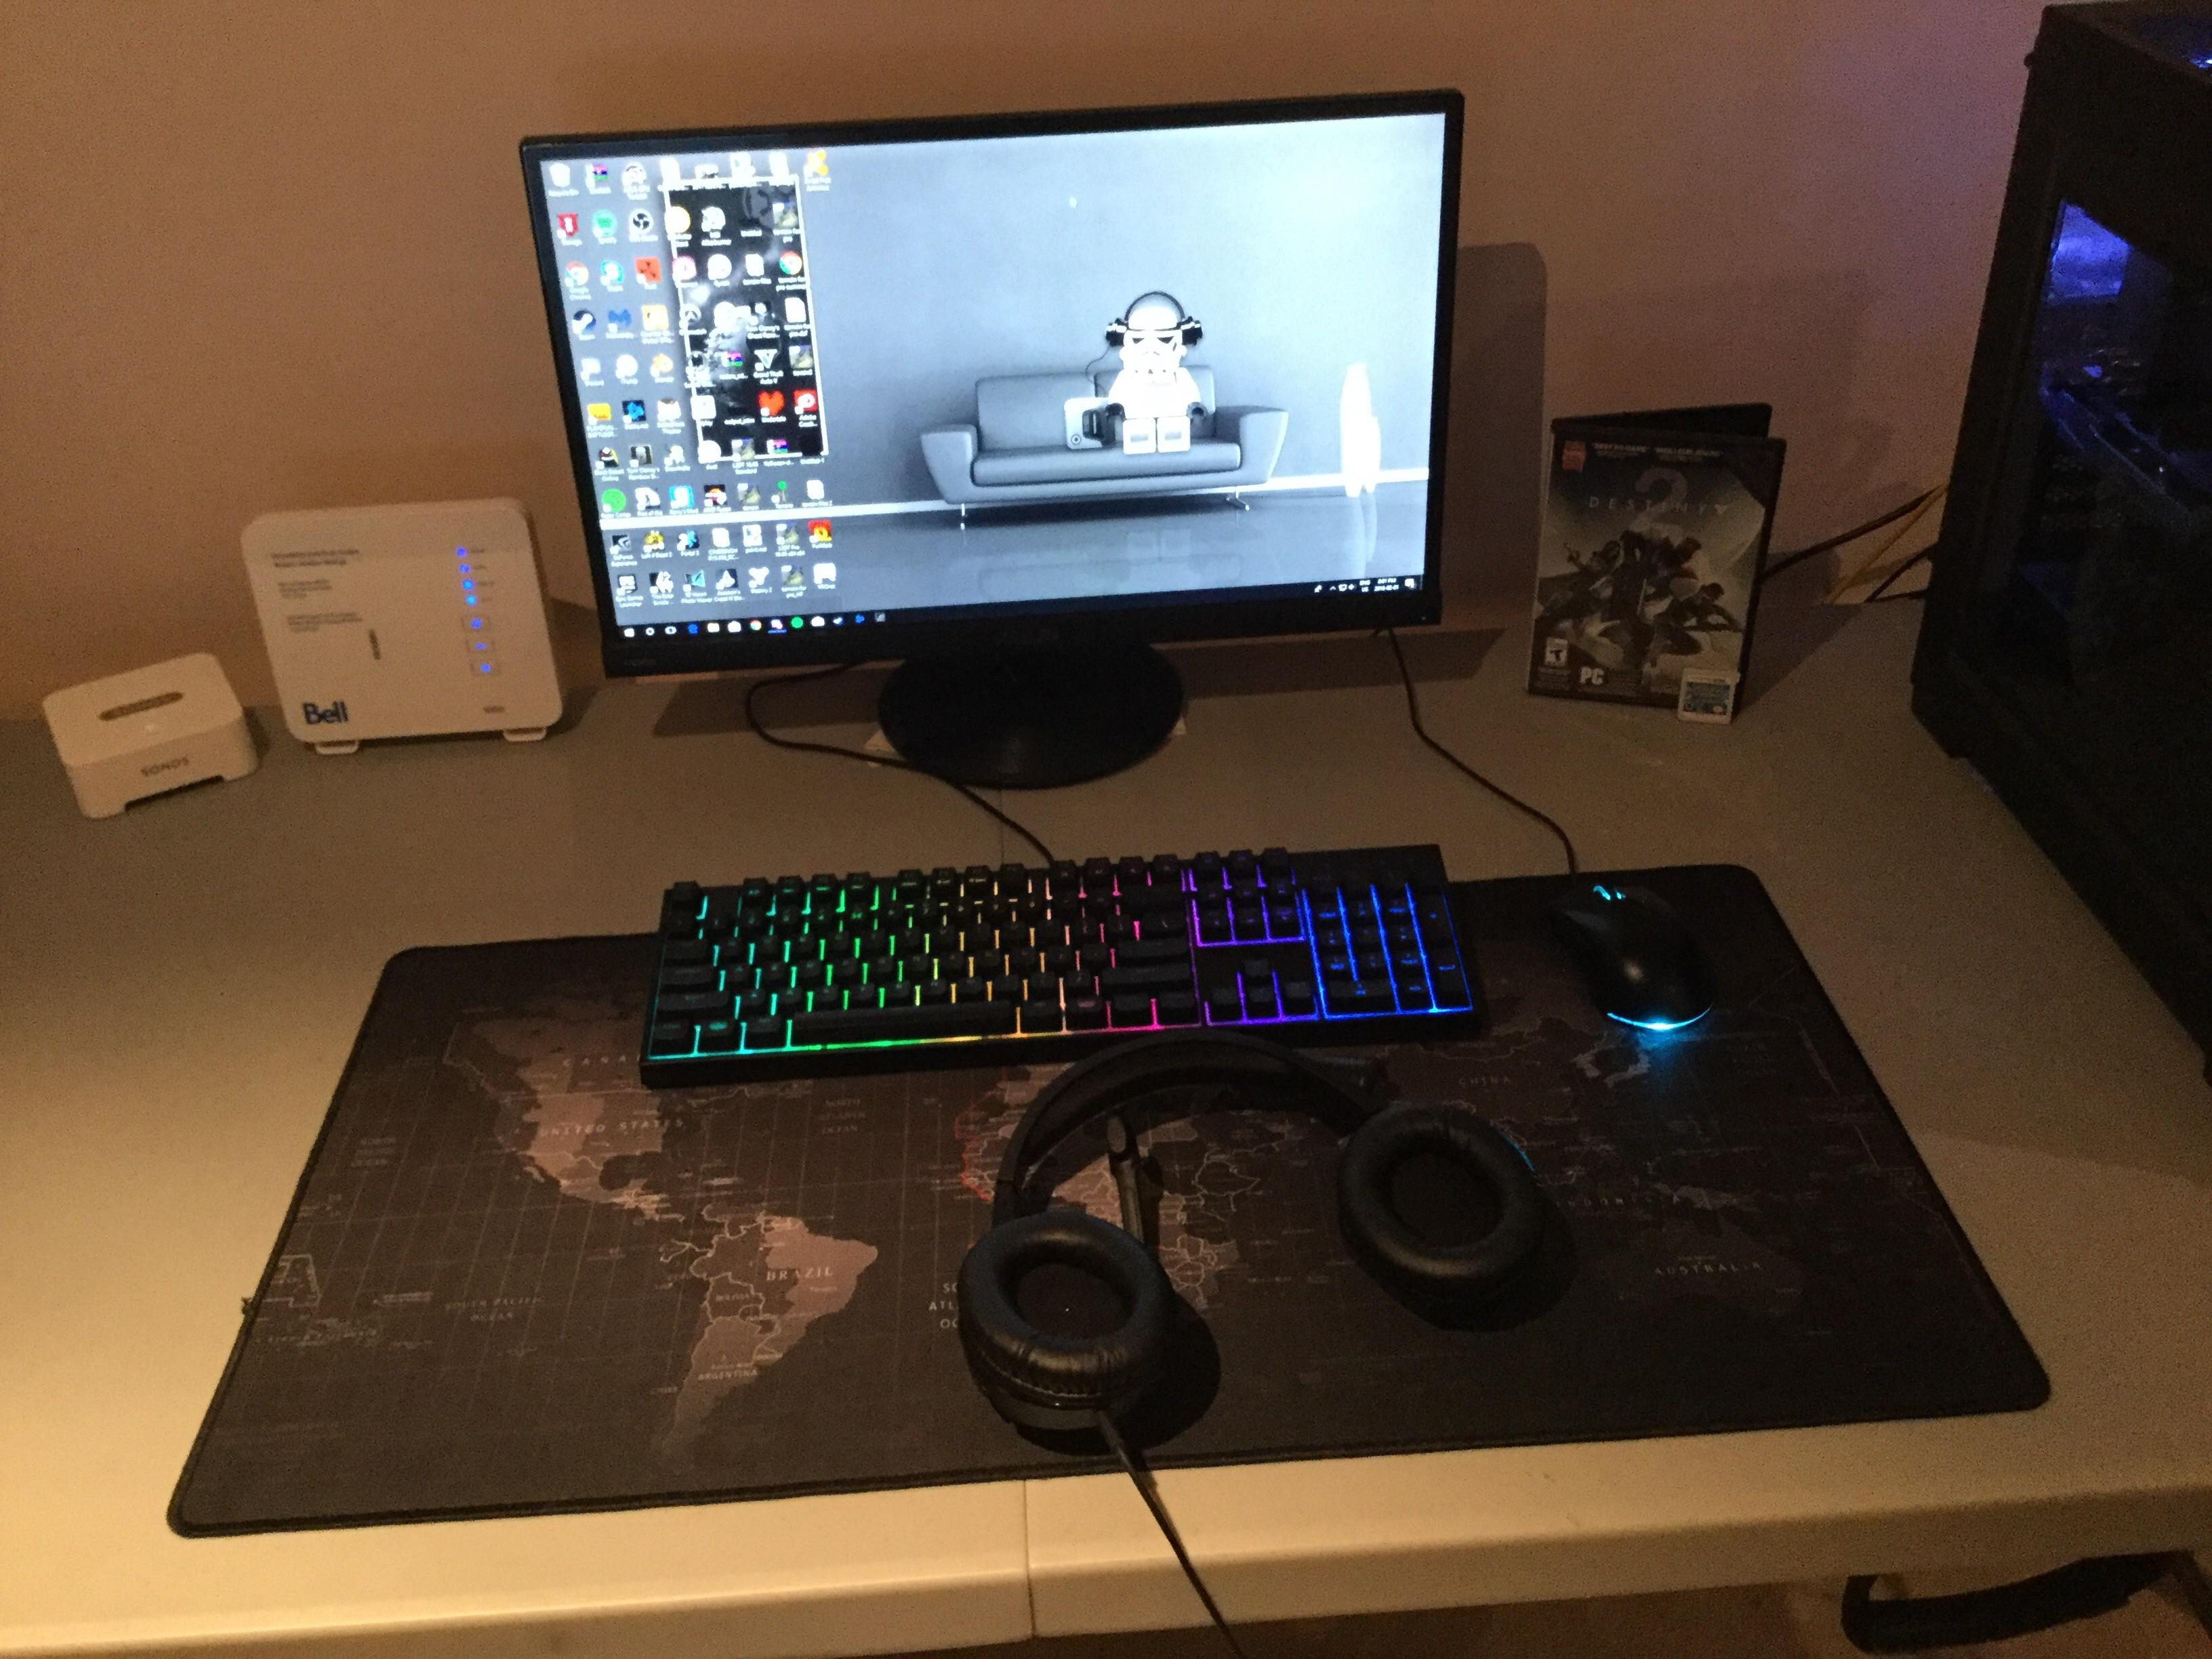keyboard: (632, 823, 1498, 1087)
monitor: (484, 75, 1533, 758)
mouse: (1524, 842, 1770, 1056)
